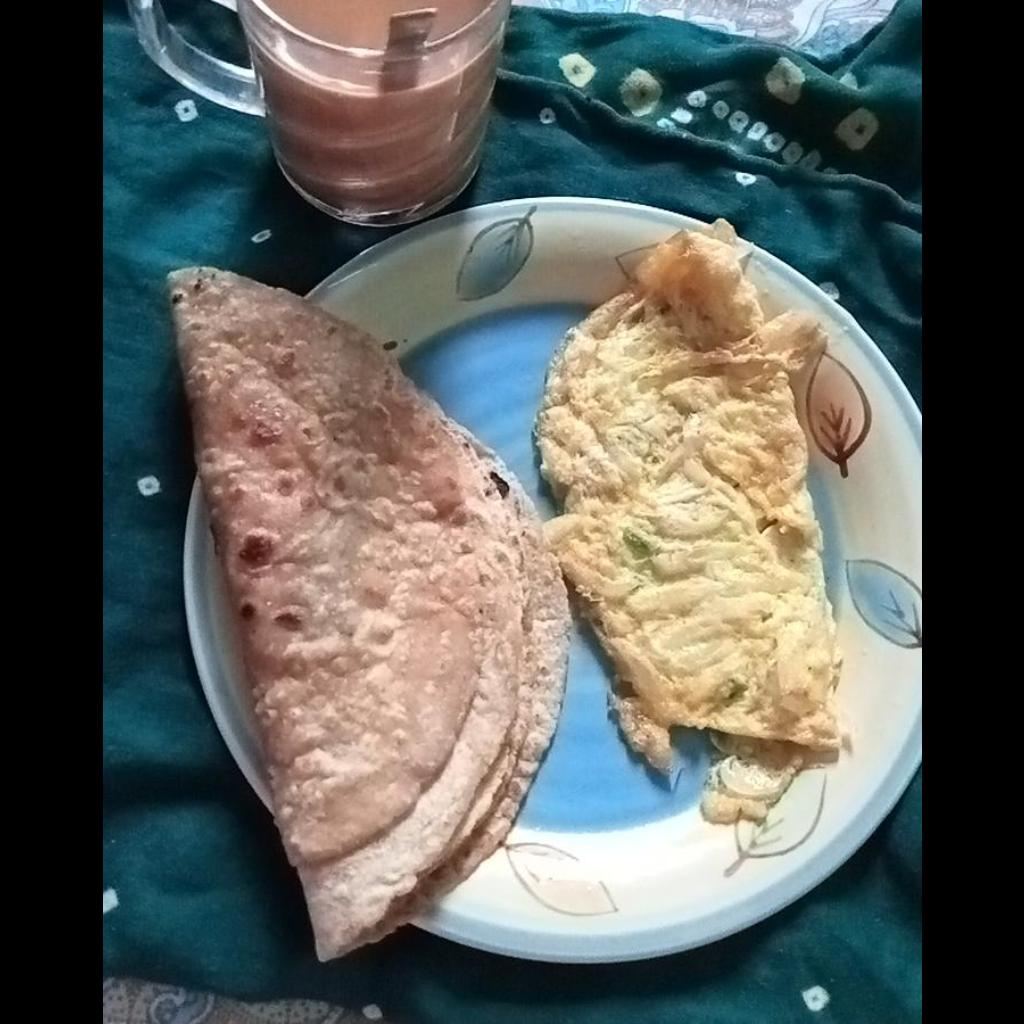cha: (262, 0, 482, 49)
egg-poached: (538, 225, 842, 821)
ruti: (164, 269, 570, 959)
